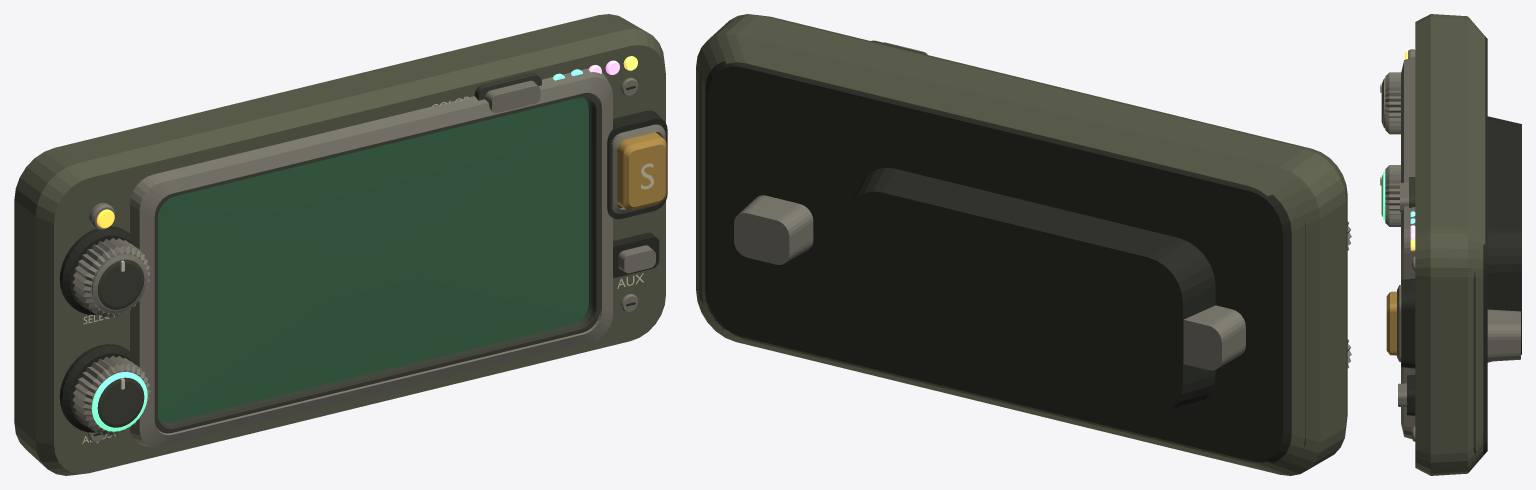
File: phosphor_orbit.glb
3 renders of one model, left to right at view 1: azimuth 30°, elevation 25°; view 2: azimuth 150°, elevation 25°; view 3: azimuth 270°, elevation 25°, orthographic. The views are drawn at different scales.
Parts seen in each view (by area): view 1: Crowned lens, Recessed holographic plane, Painted housing, Machined frame, Lens gasket, Raised set key, Adjust knurl, Select knurl, Adjust socket, Select cap, Adjust cap, Select socket (+7 smaller); view 2: Rear gasket, Wrist saddle, Painted housing, Brace lug.001, Brace lug, Right protective rail; view 3: Painted housing, Wrist saddle, Machined frame, Brace lug.001, Rear gasket, Set socket, Select knurl, Adjust knurl, Raised set key, Right protective rail, Set surround, Feedback socket (+5 smaller).
Part boxes in pixels (box(x1,y1,x2,y2)): Crowned lens: box(158, 98, 591, 425); Recessed holographic plane: box(158, 97, 588, 422); Painted housing: box(14, 14, 665, 475); Machined frame: box(130, 68, 612, 447); Lens gasket: box(154, 92, 599, 433); Raised set key: box(617, 132, 666, 210); Adjust knurl: box(72, 355, 150, 435); Select knurl: box(72, 238, 150, 317); Adjust socket: box(59, 344, 135, 432); Select cap: box(97, 260, 144, 309); Adjust cap: box(97, 377, 144, 427); Select socket: box(59, 226, 135, 314); Rear gasket: box(705, 61, 1291, 462); Wrist saddle: box(846, 167, 1215, 413); Painted housing: box(696, 14, 1347, 475); Brace lug.001: box(734, 195, 813, 264); Brace lug: box(1183, 305, 1245, 370); Right protective rail: box(699, 70, 703, 303); Painted housing: box(1415, 14, 1485, 475); Wrist saddle: box(1487, 116, 1521, 362); Machined frame: box(1401, 57, 1415, 439); Brace lug.001: box(1487, 309, 1520, 361); Rear gasket: box(1483, 36, 1487, 455); Set socket: box(1401, 278, 1415, 368); Select knurl: box(1385, 72, 1400, 134); Adjust knurl: box(1385, 165, 1400, 226); Raised set key: box(1386, 291, 1396, 355); Right protective rail: box(1473, 270, 1475, 453); Set surround: box(1397, 285, 1401, 362); Feedback socket: box(1407, 375, 1415, 415).
Size of the model in its own units: 8.16 by 3.86 by 2.02.
